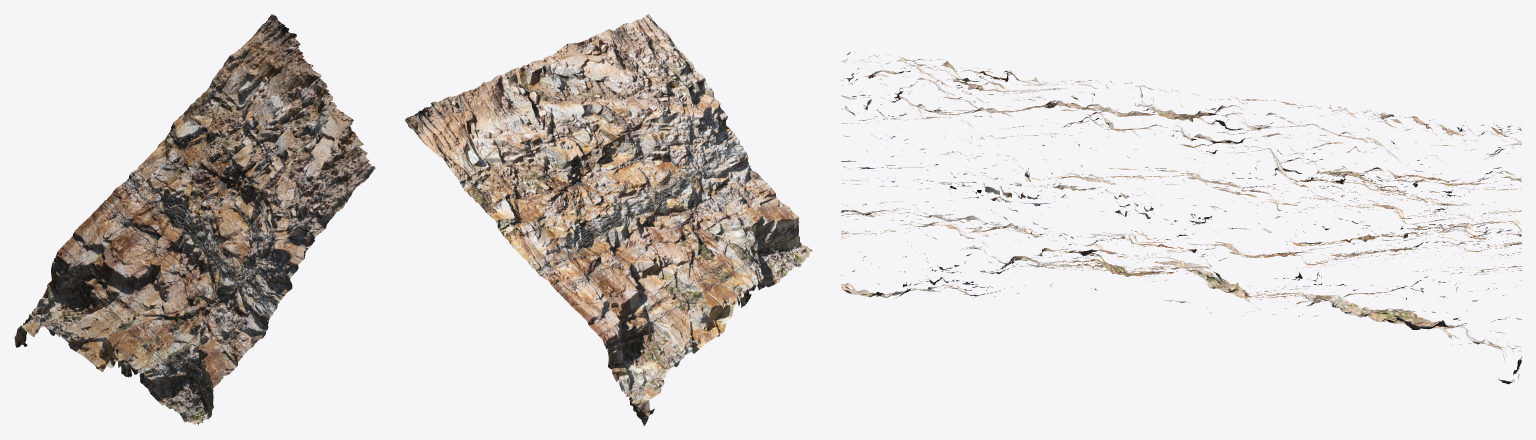
The picture shows the model from 3 angles, left to right: view 1: azimuth 30°, elevation 25°; view 2: azimuth 150°, elevation 25°; view 3: azimuth 270°, elevation 25°; orthographic projection. The views are drawn at different scales.
Bounding box in the file's own units: 12.38 × 12.31 × 15.26.
Materials: 3 (3 with a texture image).
